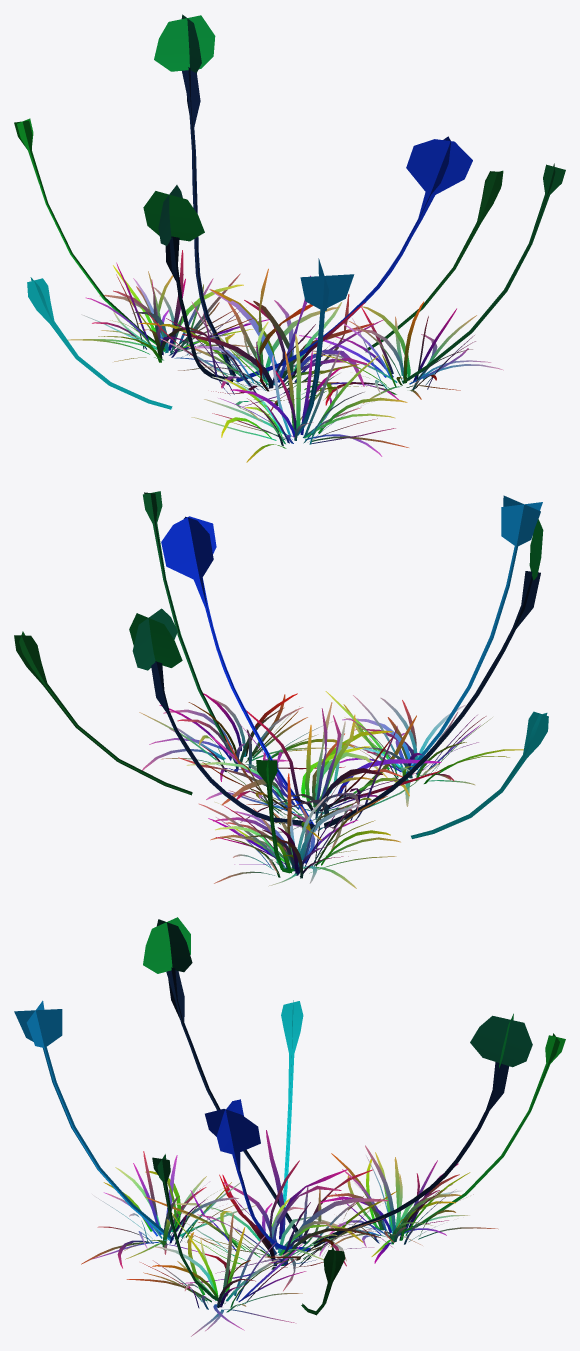
File: Sea_Thrift_vkbgaihha_Mid_vkbgaihha_VarD_LOD0.fbx
The picture shows the model from 3 angles, top to bottom: view 1: azimuth 30°, elevation 25°; view 2: azimuth 150°, elevation 25°; view 3: azimuth 270°, elevation 25°; orthographic projection. The views are drawn at different scales.
Visible parts, largest first — view 1: _srg1_VarD_LOD1; view 2: _srg1_VarD_LOD1; view 3: _srg1_VarD_LOD1.
Boxes of the visible parts, bbox=[...] form: _srg1_VarD_LOD1: bbox=[14, 14, 565, 462]; _srg1_VarD_LOD1: bbox=[14, 491, 548, 888]; _srg1_VarD_LOD1: bbox=[14, 917, 565, 1336].
Bounding box in the file's own units: 34.18 × 18.41 × 34.7.
